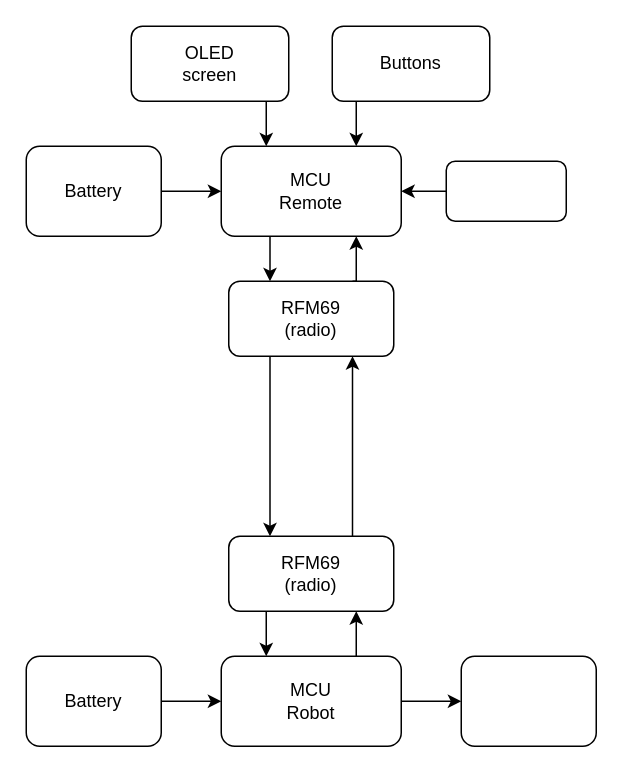
Image size: 623x773. Some labels were removed from this diagram. Each missing label, with the centre of its shape:
2-axis joystick: (x=505, y=190)
MOSFET: (x=528, y=700)
